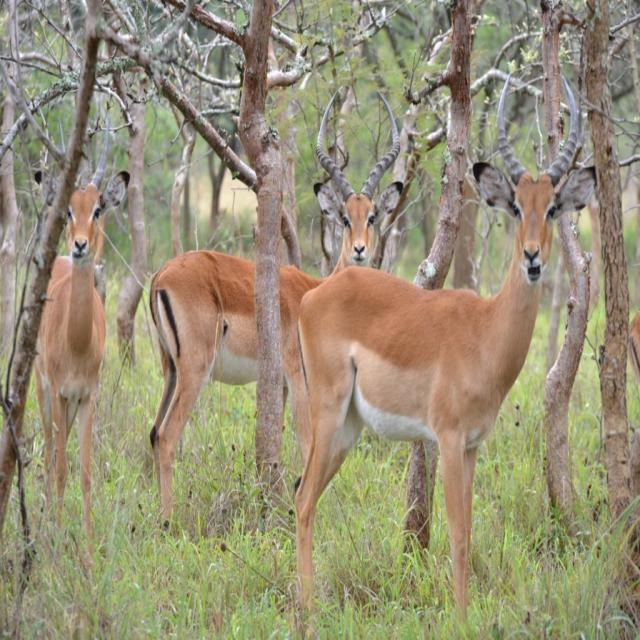Deer: (294, 70, 580, 622), (150, 91, 404, 542), (35, 116, 130, 563), (626, 310, 640, 397)
